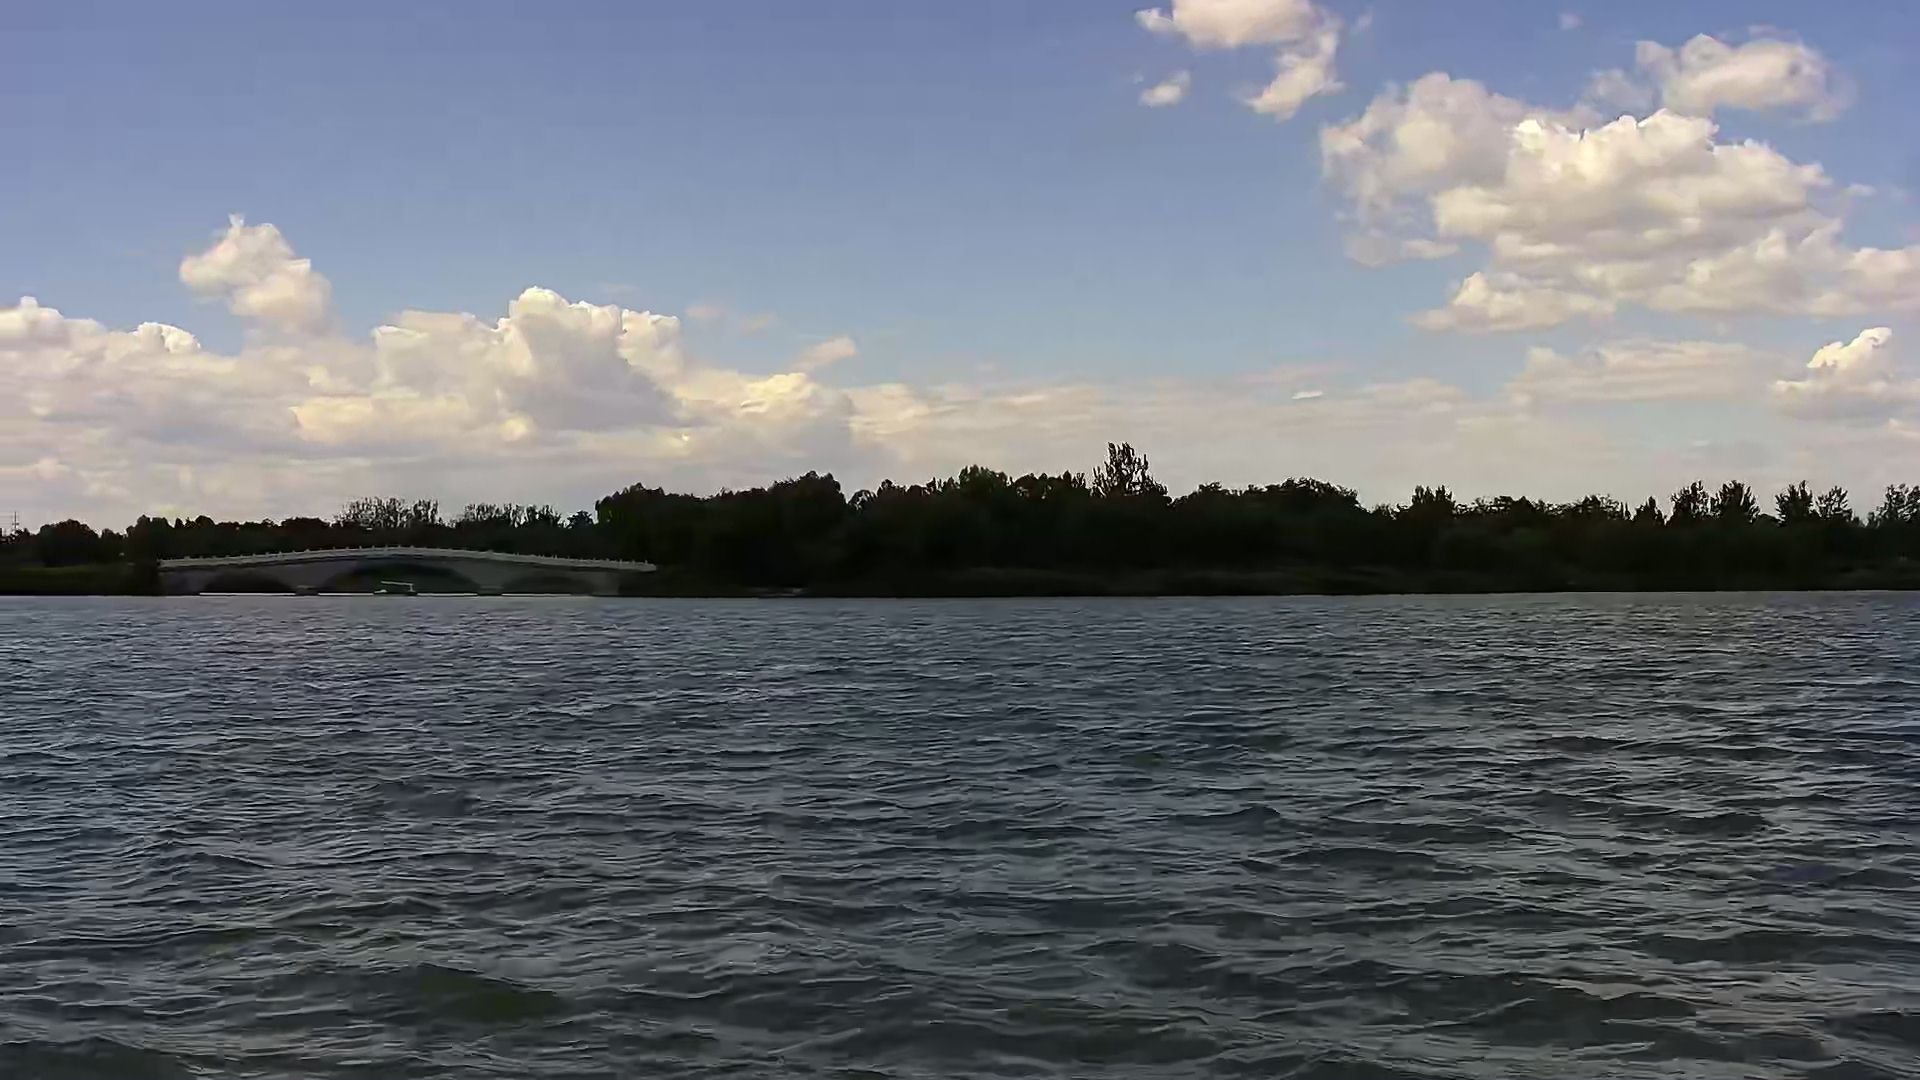boat: (371, 574, 429, 603)
bridge: (156, 549, 657, 599)
